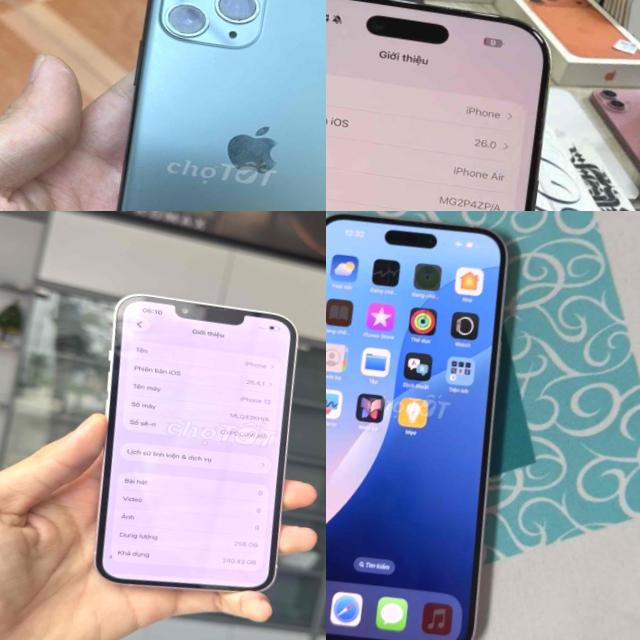gen_11: (78, 0, 326, 211)
gen_12_13: (76, 288, 315, 602)
gen_15: (326, 211, 546, 640)
gen_17: (326, 0, 581, 211)
